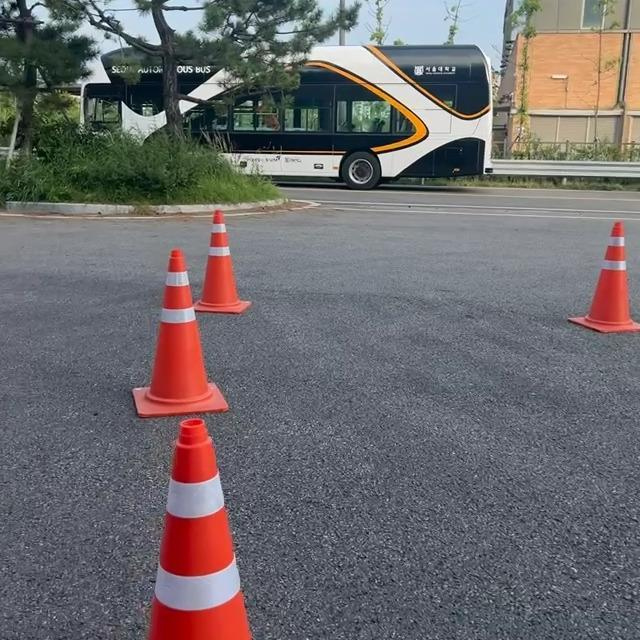fallen_object: (136, 407, 304, 640), (530, 189, 640, 532), (182, 182, 297, 343), (107, 263, 227, 416)
